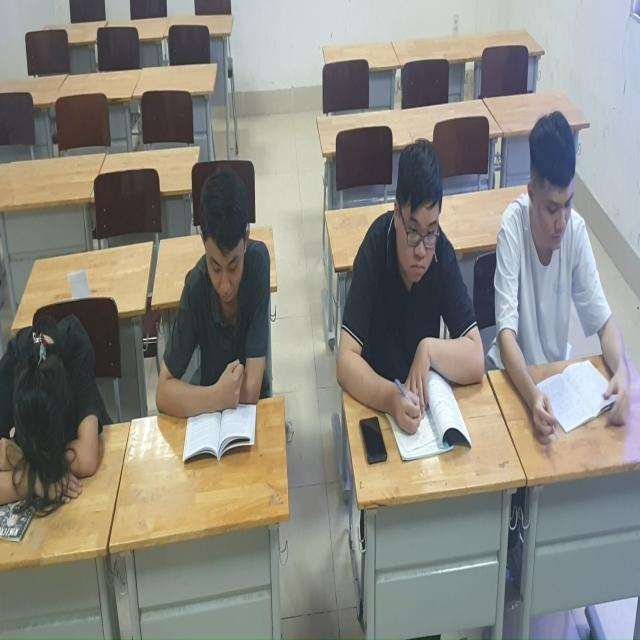read: (330, 140, 491, 468), (499, 112, 640, 451), (152, 149, 275, 473)
sleep: (1, 295, 101, 524)
